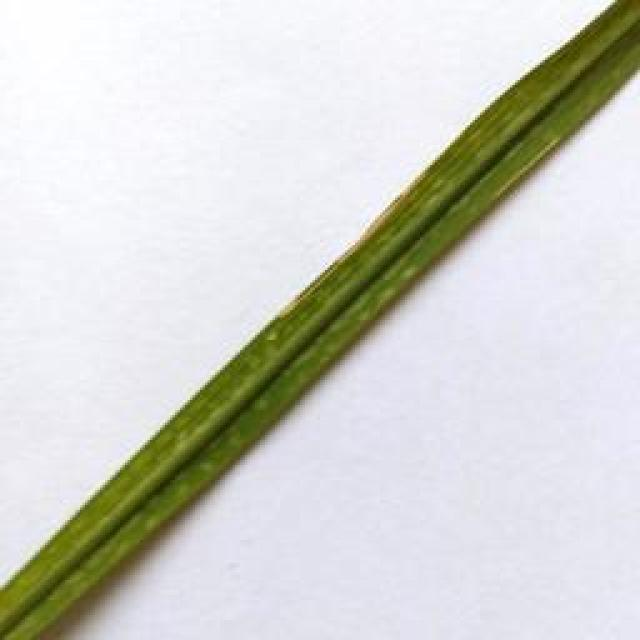Bacterial_Blight: (301, 179, 424, 304)
